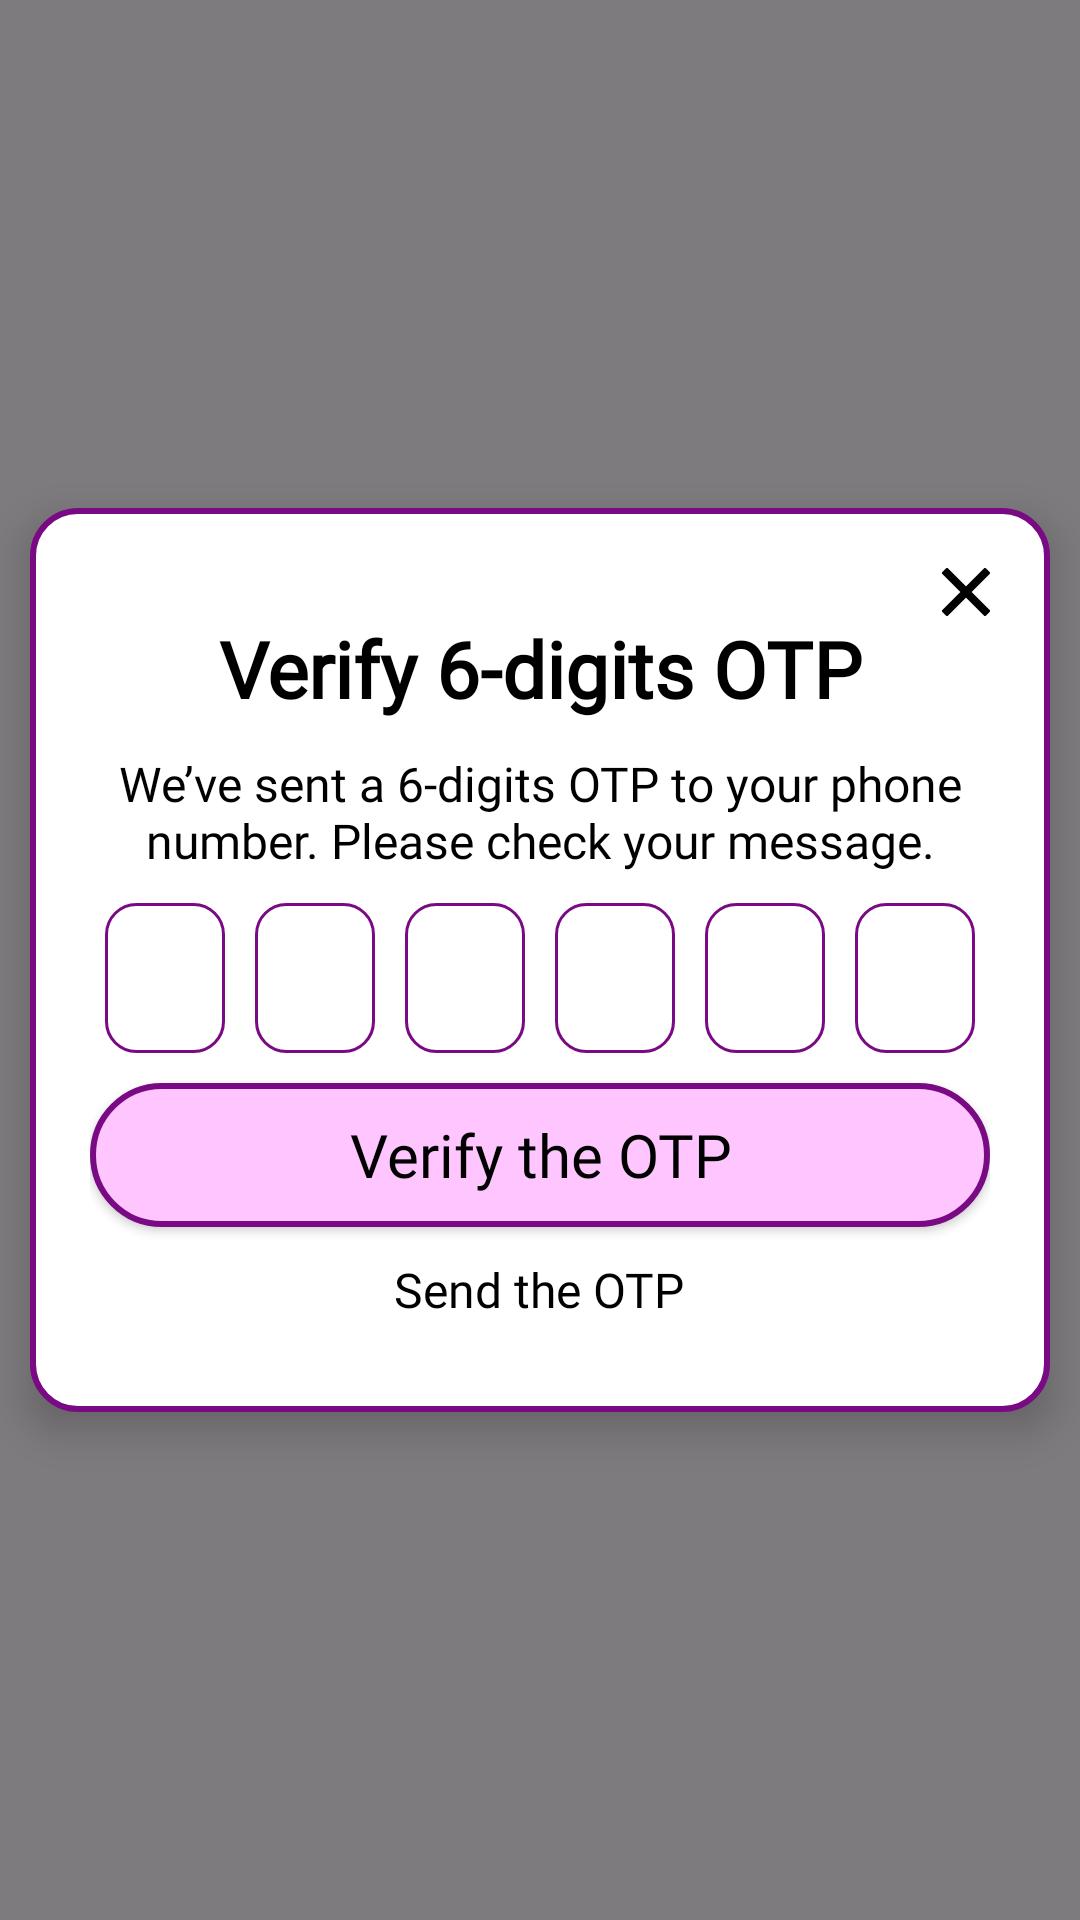

Locate icon controls on the screen. Image size 1080px x 1920px, boxes as (x1, y1, x2, y2).
quit: (942, 568, 990, 616)
